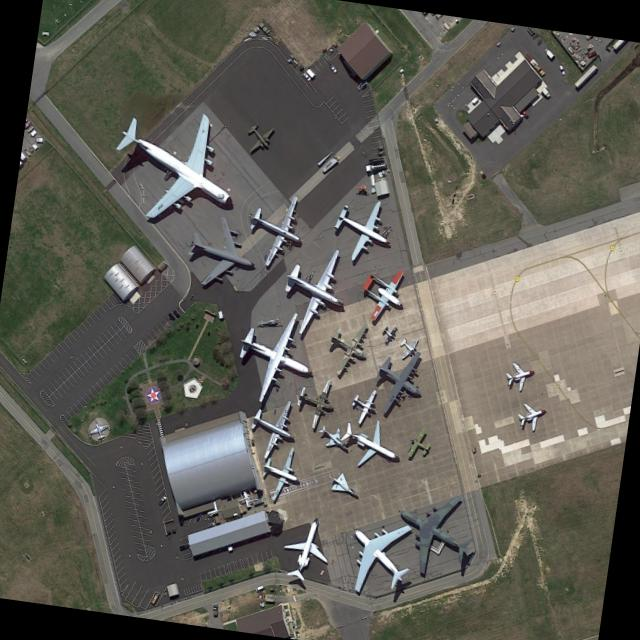large-vehicle: (365, 161, 386, 171), (543, 46, 554, 60), (150, 591, 158, 603)
plane: (94, 76, 263, 255), (379, 470, 489, 592), (223, 292, 326, 416), (327, 493, 433, 611), (267, 230, 359, 346), (178, 205, 268, 304), (234, 178, 314, 278), (324, 182, 402, 272), (360, 334, 437, 425), (272, 507, 341, 587), (333, 406, 405, 480), (353, 254, 416, 330), (241, 387, 303, 464), (318, 311, 379, 383), (252, 438, 305, 508), (289, 369, 340, 432), (239, 113, 280, 158), (345, 383, 384, 429), (315, 417, 354, 461), (514, 395, 549, 435), (402, 424, 436, 463), (502, 356, 536, 394), (327, 468, 361, 503), (393, 331, 421, 362), (86, 414, 112, 443), (378, 321, 400, 346)
small-vehicle: (300, 70, 310, 81), (328, 61, 337, 72), (254, 583, 265, 592), (157, 495, 166, 505), (178, 543, 189, 550), (586, 50, 596, 57), (167, 311, 174, 320), (172, 309, 179, 317), (195, 512, 201, 521), (205, 521, 214, 527)
